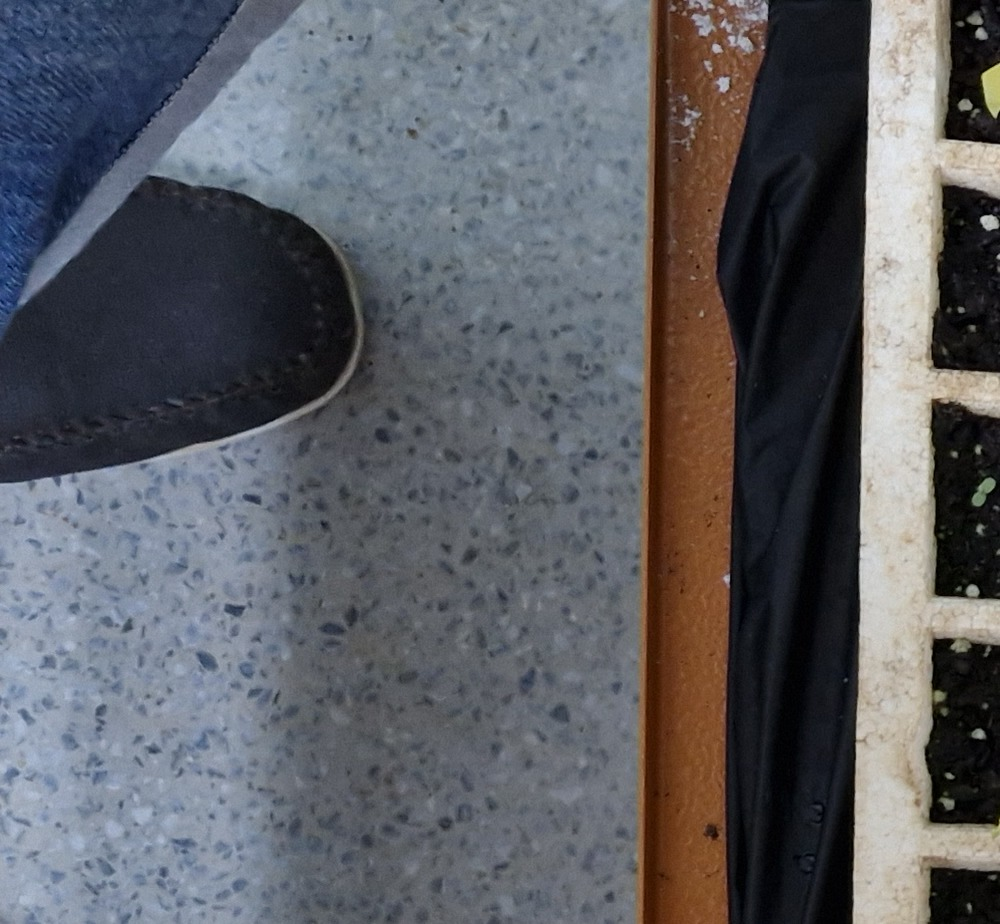Folha: (327, 431, 340, 443)
Germinacao: (327, 431, 341, 445)
